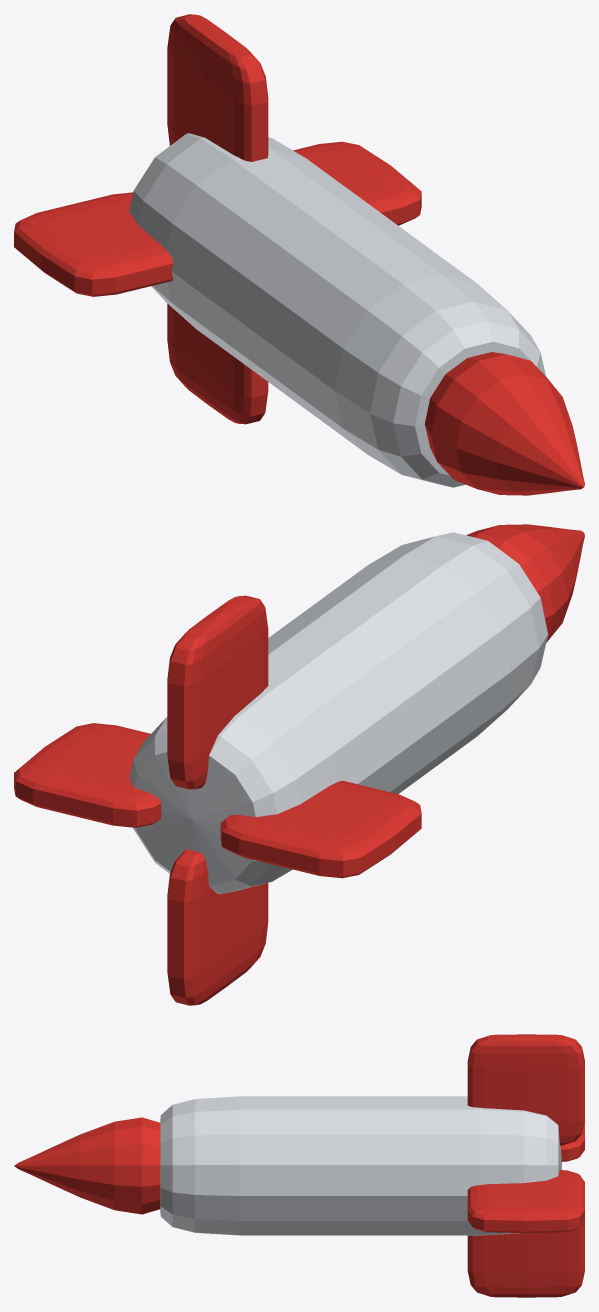
Rendered from rocket.glb.
3 renders of one model, top to bottom at view 1: azimuth 30°, elevation 25°; view 2: azimuth 150°, elevation 25°; view 3: azimuth 270°, elevation 25°, orthographic. The views are drawn at different scales.
Parts seen in each view (by area): view 1: rocket; view 2: rocket; view 3: rocket.
Boxes of the visible parts, <box> form: rocket: <box>14,14,584,495</box>; rocket: <box>14,524,584,1005</box>; rocket: <box>14,1034,584,1297</box>.
Bounding box in the file's own units: 0.2394 × 0.24 × 0.4792.
